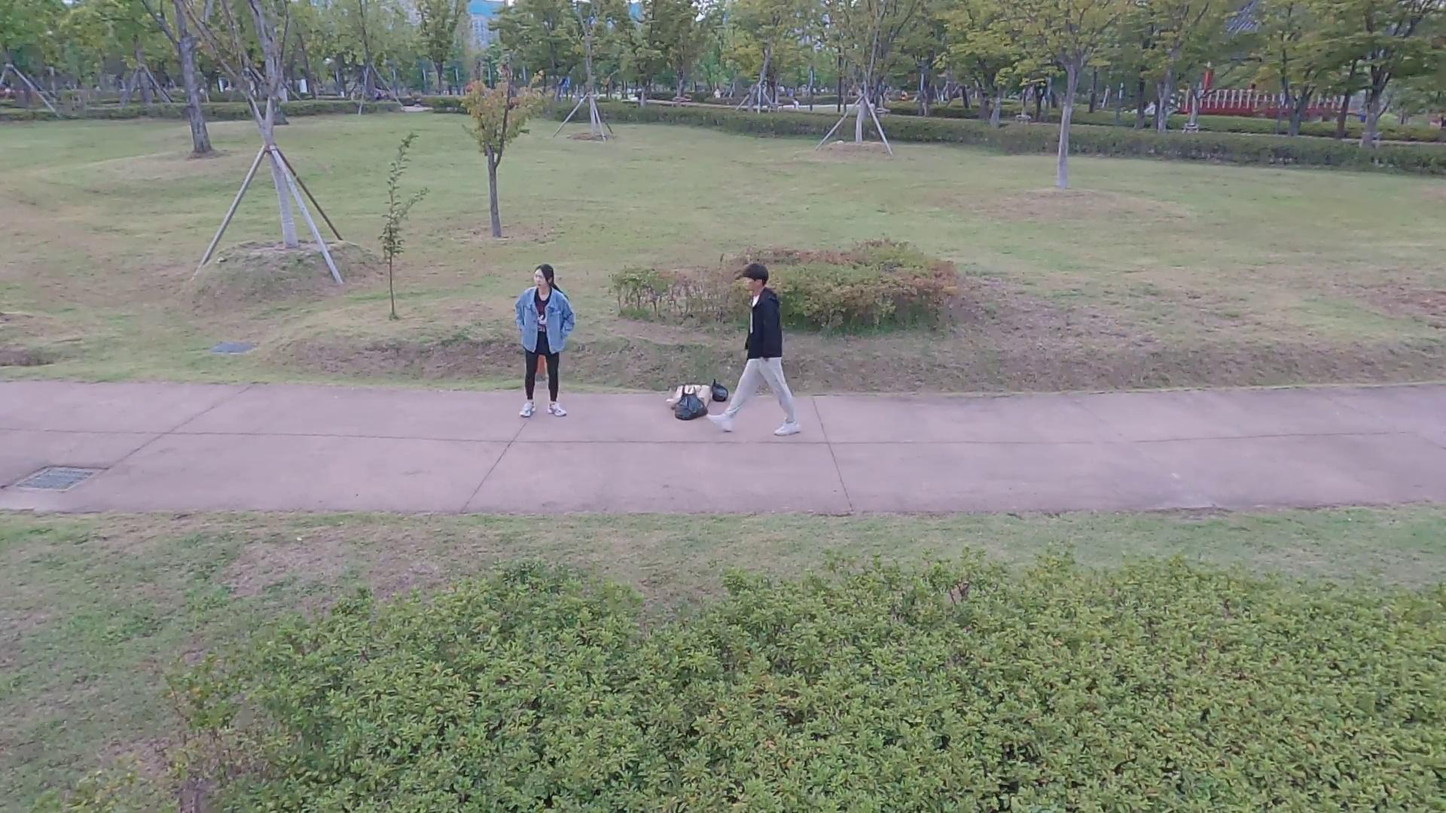person: (707, 264, 804, 436), (515, 264, 575, 418)
trash: (674, 385, 709, 420), (667, 382, 713, 407), (710, 377, 728, 402)
